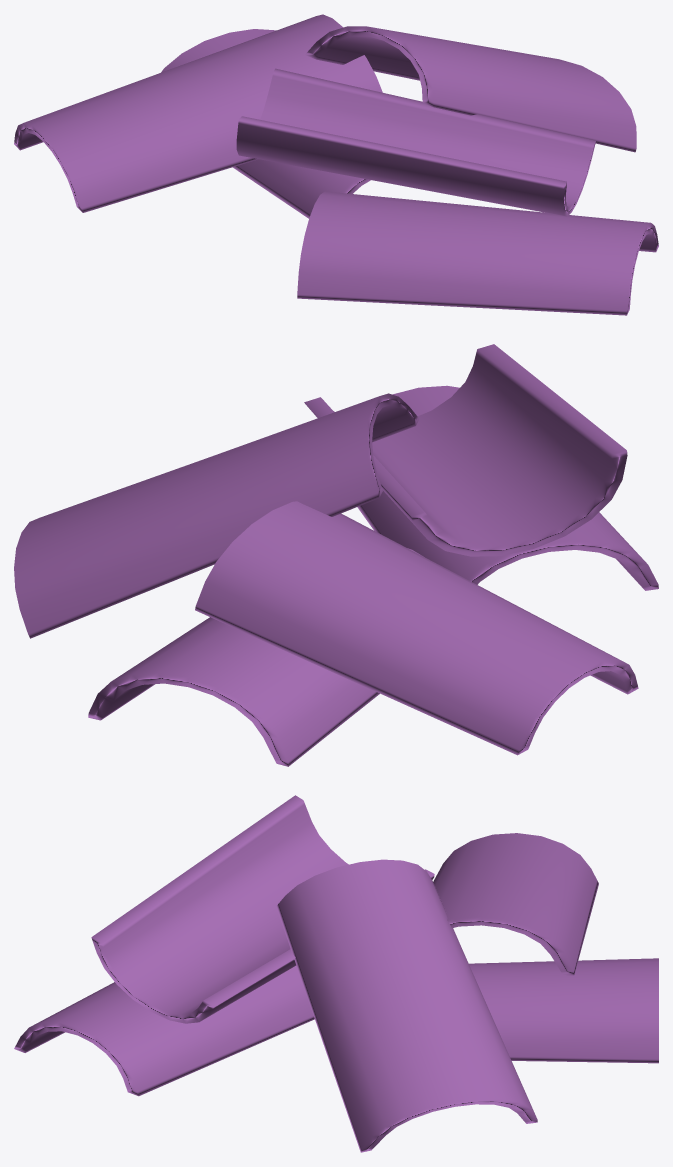
The model's file is Roof_Tile_Pile_02_Lod0.fbx.
The picture shows the model from 3 angles, top to bottom: view 1: azimuth 30°, elevation 25°; view 2: azimuth 150°, elevation 25°; view 3: azimuth 270°, elevation 25°; orthographic projection. The views are drawn at different scales.
Visible parts, largest first — view 1: Roof_Tile_Pile_02_Lod0; view 2: Roof_Tile_Pile_02_Lod0; view 3: Roof_Tile_Pile_02_Lod0.
Part boxes in pixels (x1,y1,x2,y2): Roof_Tile_Pile_02_Lod0: (14,14,658,315); Roof_Tile_Pile_02_Lod0: (14,344,658,766); Roof_Tile_Pile_02_Lod0: (14,795,658,1152).
Size of the model in its own units: 126 by 41.78 by 140.
